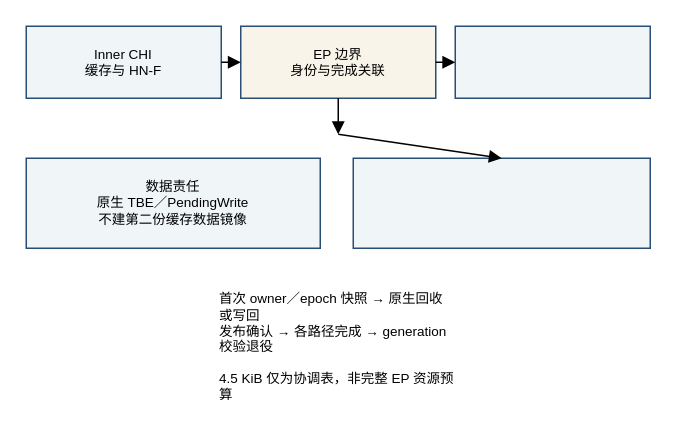
The diagram is 677 pixels wide and 432 high, and some of its shapes have lost their labels. The shapes that lost their labels are listed below. From the top down, each one's centre as x and y in pixels, then its label:
the point at 552,61: Outer Home 目录与提交
the point at 501,202: 交接描述符 64 项 × 72 B／节点 8 项控制预留
